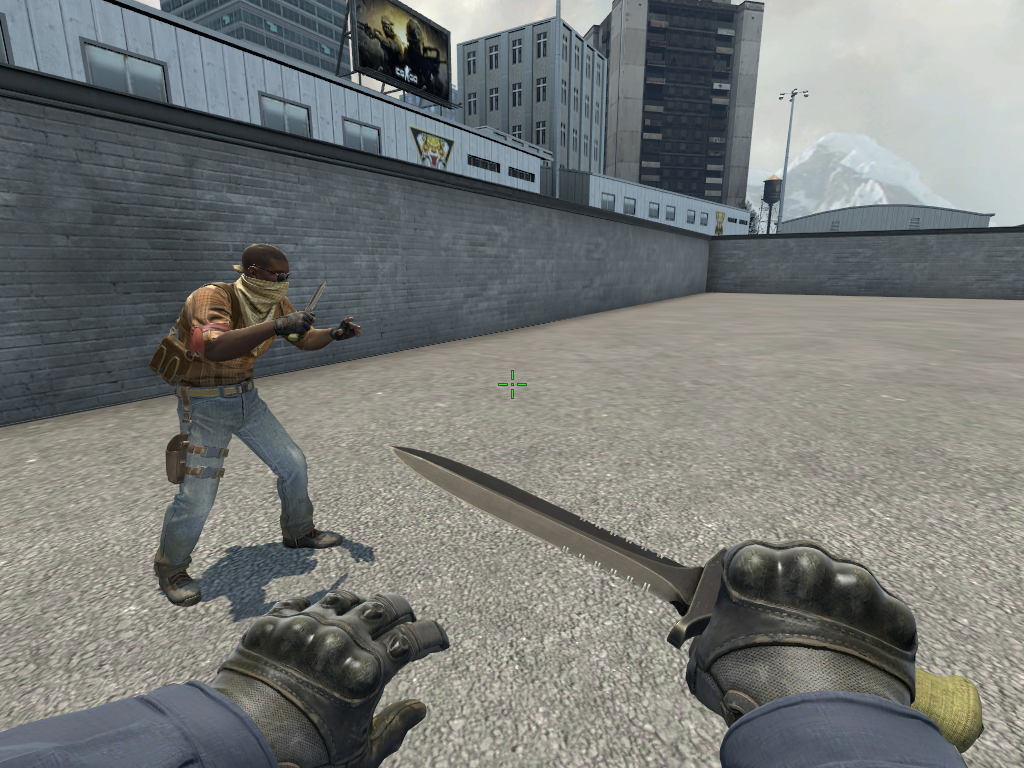tr head: (229, 241, 295, 311)
